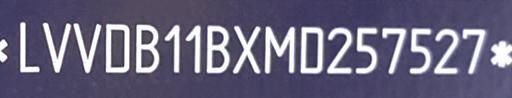letter: (260, 24, 296, 77), (41, 19, 73, 74), (69, 19, 101, 73), (231, 22, 261, 76), (204, 22, 232, 76), (104, 22, 132, 74), (354, 23, 382, 75), (459, 25, 487, 77), (380, 25, 406, 80), (432, 24, 460, 75), (135, 22, 161, 74), (16, 19, 40, 74), (326, 25, 352, 75), (299, 25, 325, 74), (408, 25, 432, 77), (182, 22, 202, 76), (162, 23, 182, 75)
